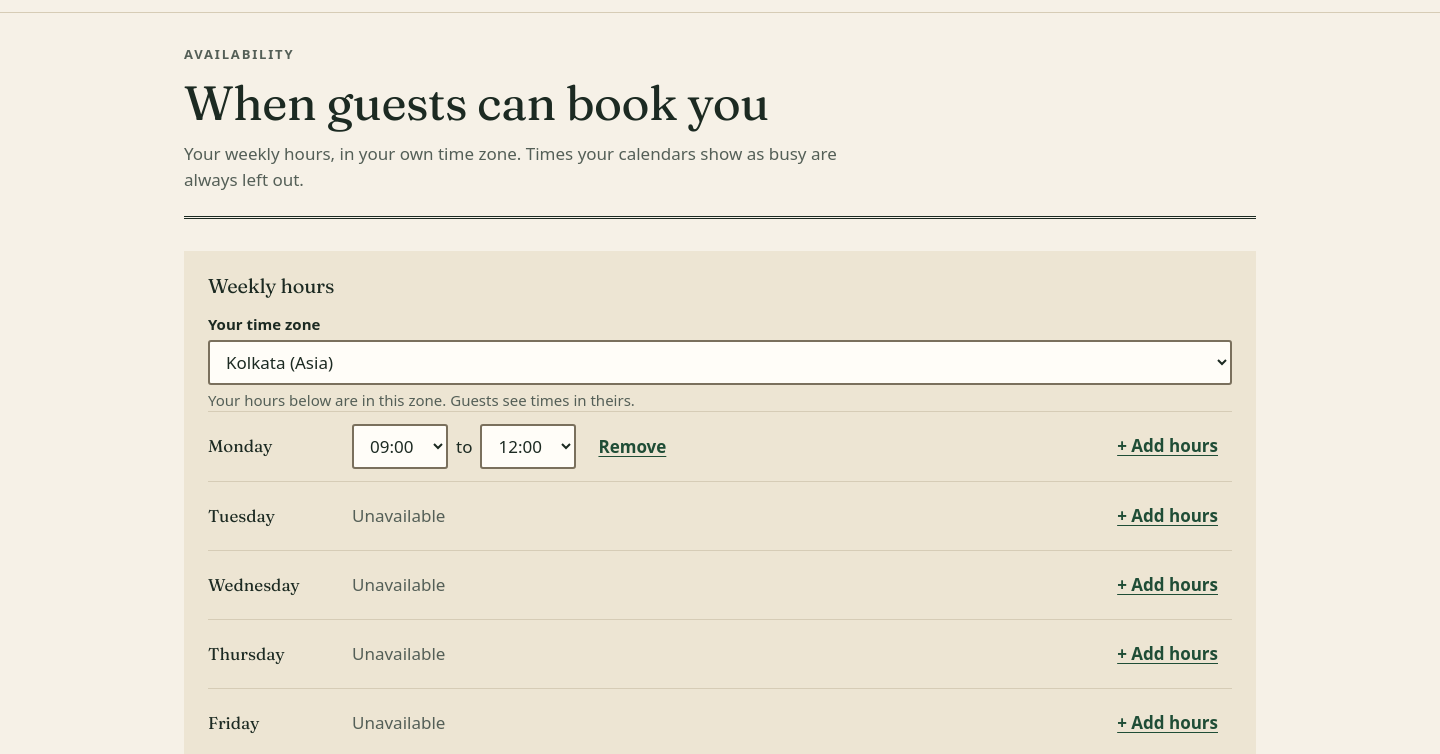
the availability page › adds hours and saves everything with one request
Click the button with aria-label "Add hours on Tuesday": (1168, 516) x1=1103 y1=494 x2=1232 y2=538
(page scrolled)
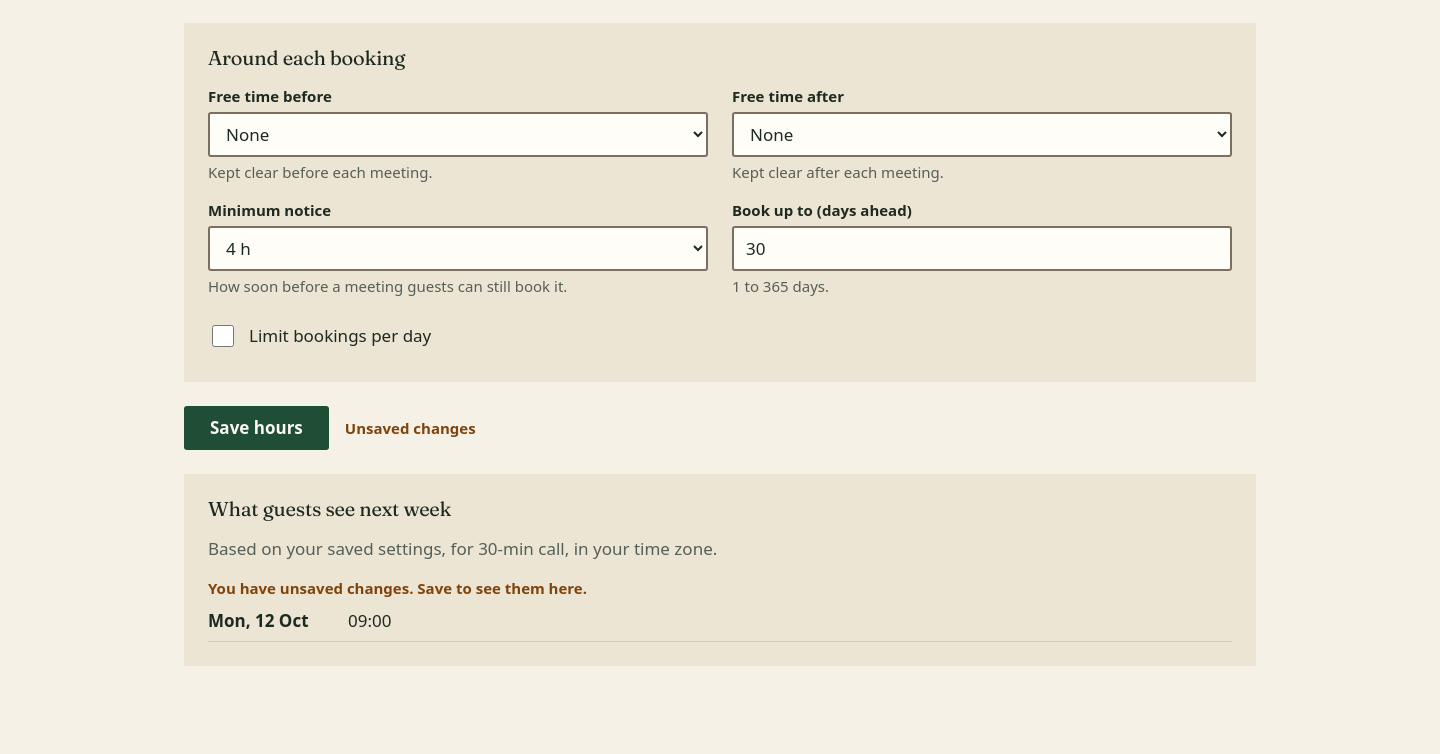
Click the button "Save hours": (256, 428) x1=184 y1=406 x2=329 y2=450
(page scrolled)
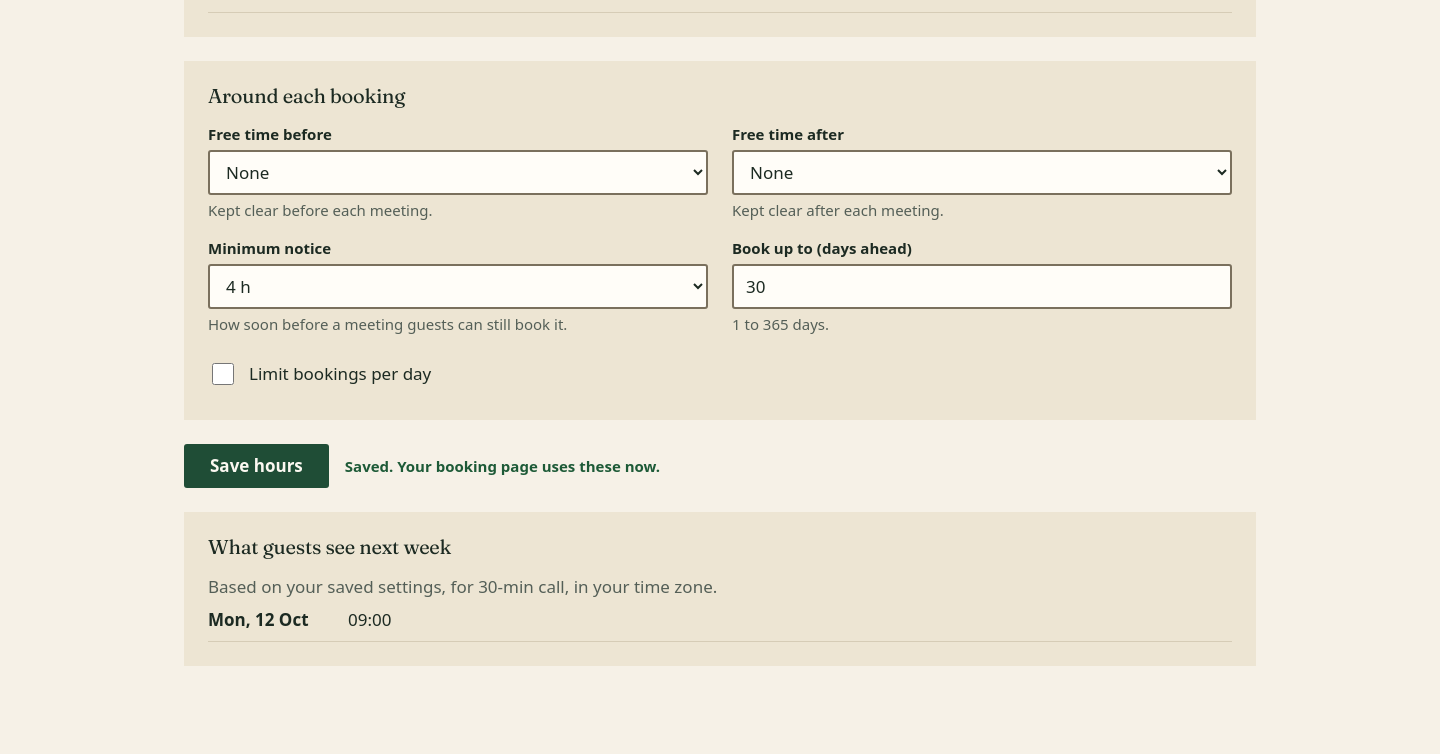
Check: the text "Saved. Your booking page uses these now." is shown, box x1=345 y1=454 x2=660 y2=477
